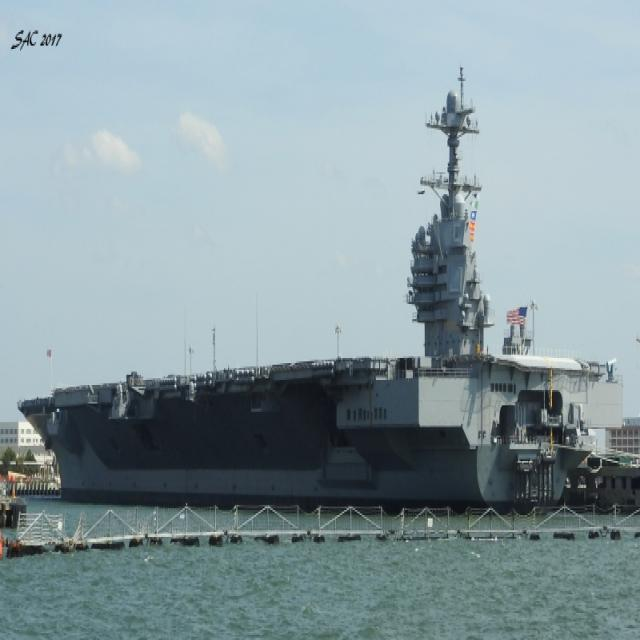Portanaves: (19, 67, 606, 513)
